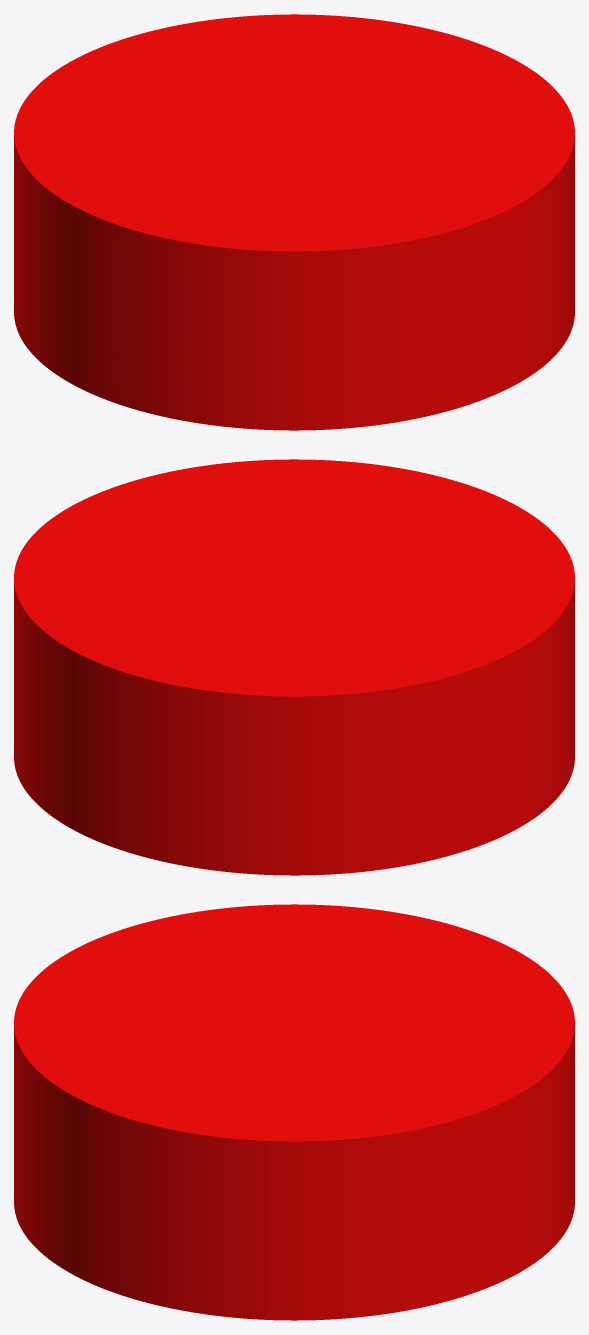
Rendered from red_tin.glb.
The picture shows the model from 3 angles, top to bottom: view 1: azimuth 30°, elevation 25°; view 2: azimuth 150°, elevation 25°; view 3: azimuth 270°, elevation 25°; orthographic projection.
Visible parts, largest first — view 1: Cylinder; view 2: Cylinder; view 3: Cylinder.
Boxes of the visible parts, bbox=[...] form: Cylinder: bbox=[14, 14, 574, 430]; Cylinder: bbox=[14, 459, 574, 875]; Cylinder: bbox=[14, 904, 574, 1320].
Bounding box in the file's own units: 0.081 × 0.0285 × 0.081.
